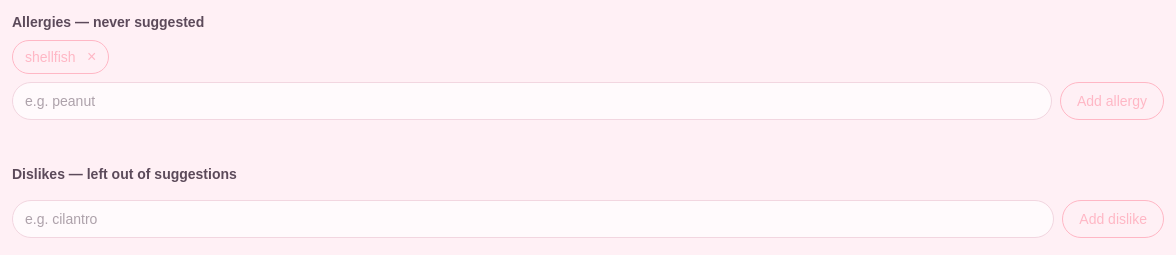
Test case: CookingExclusions (#500) › adding an allergy with Enter PUTs the full allergies list and shows it as a chip
Type "peanut" into the dropdown named "Add an allergy" at x=532, y=101, box left=12, top=82, right=1052, bottom=120
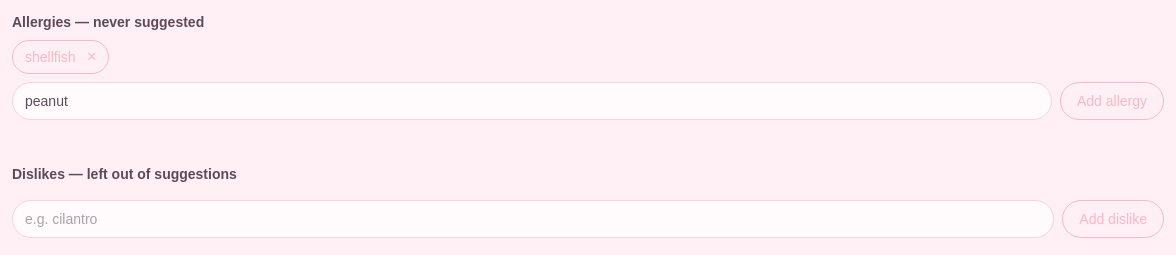
Submit the form named "Add an allergy", box left=12, top=82, right=1164, bottom=120
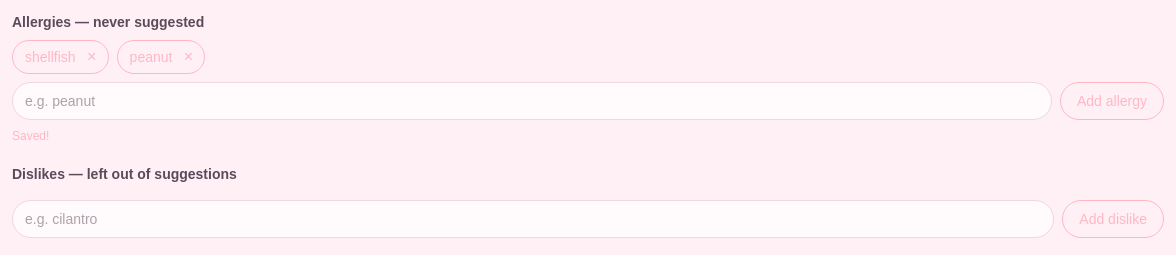
Now the text "peanut" is shown, box left=130, top=47, right=172, bottom=67
Now the text "Saved!" is shown, box left=12, top=129, right=49, bottom=143
